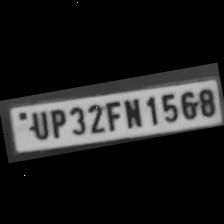1: (140, 92, 160, 127)
2: (82, 98, 105, 134)
3: (62, 101, 86, 136)
5: (155, 88, 179, 124)
6: (175, 86, 198, 120)
8: (192, 84, 217, 119)
F: (100, 98, 122, 132)
N: (117, 94, 143, 130)
P: (44, 104, 68, 138)
U: (23, 106, 49, 140)
